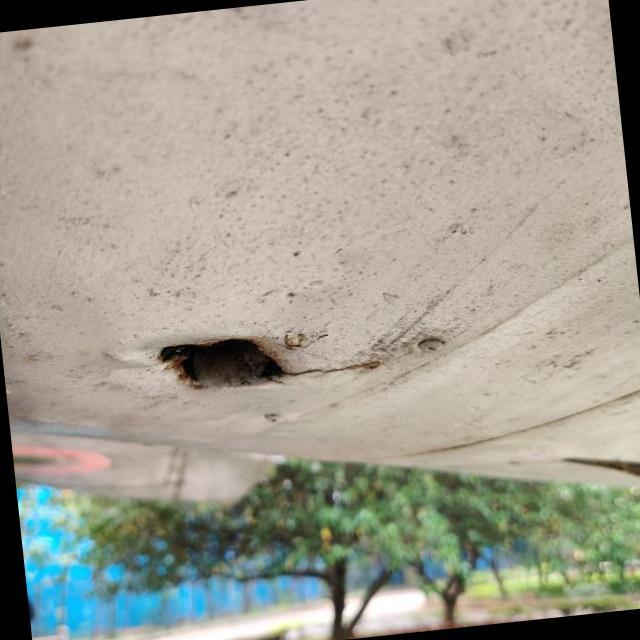Rupture: (112, 296, 396, 422)
